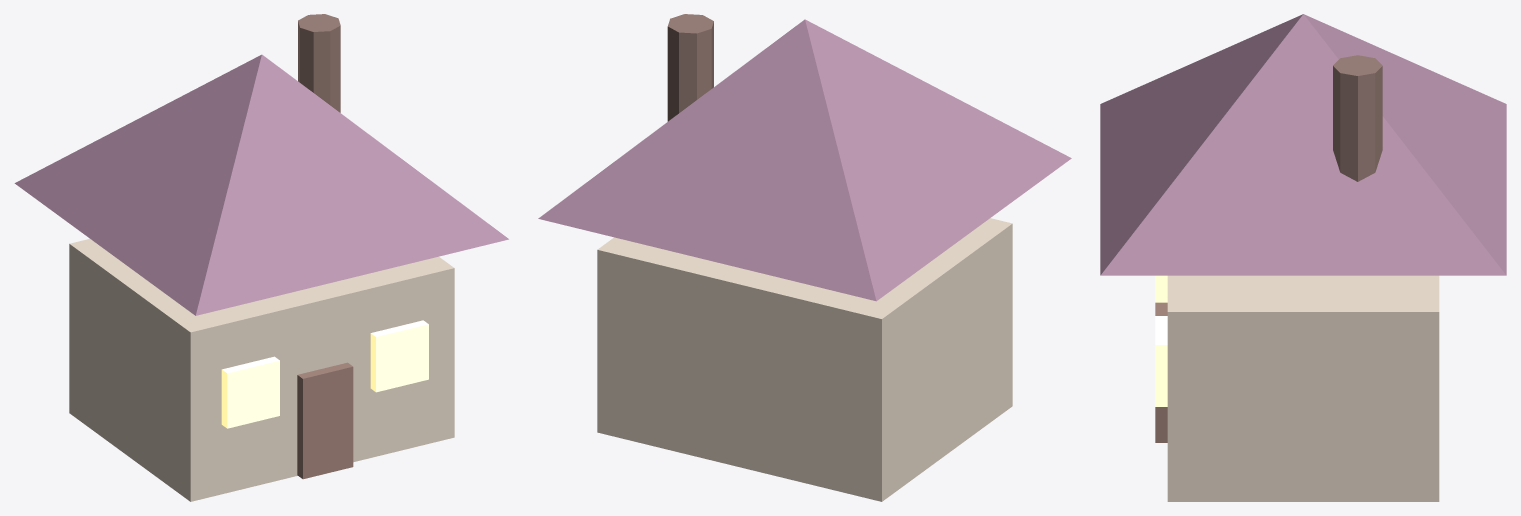
File: cottage.glb
The picture shows the model from 3 angles, left to right: view 1: azimuth 30°, elevation 25°; view 2: azimuth 150°, elevation 25°; view 3: azimuth 270°, elevation 25°; orthographic projection. The views are drawn at different scales.
Visible parts, largest first — view 1: cottage_1, cottage_0, cottage_2, cottage_3, cottage_4, cottage_5; view 2: cottage_0, cottage_1, cottage_5; view 3: cottage_1, cottage_0, cottage_5, cottage_4, cottage_2.
Boxes of the visible parts, x1,y1,x2,y2 form: cottage_1: (14,54,508,315); cottage_0: (69,239,454,501); cottage_2: (297,362,353,479); cottage_3: (221,356,279,428); cottage_4: (370,320,428,392); cottage_5: (298,14,340,112); cottage_0: (597,218,1012,501); cottage_1: (538,19,1071,301); cottage_5: (667,14,713,121); cottage_1: (1100,14,1506,275); cottage_0: (1167,275,1439,501); cottage_5: (1333,55,1382,181); cottage_4: (1155,316,1167,406); cottage_2: (1155,302,1167,442).
Bounding box in the file's own units: 2.62 × 2.95 × 2.62.
